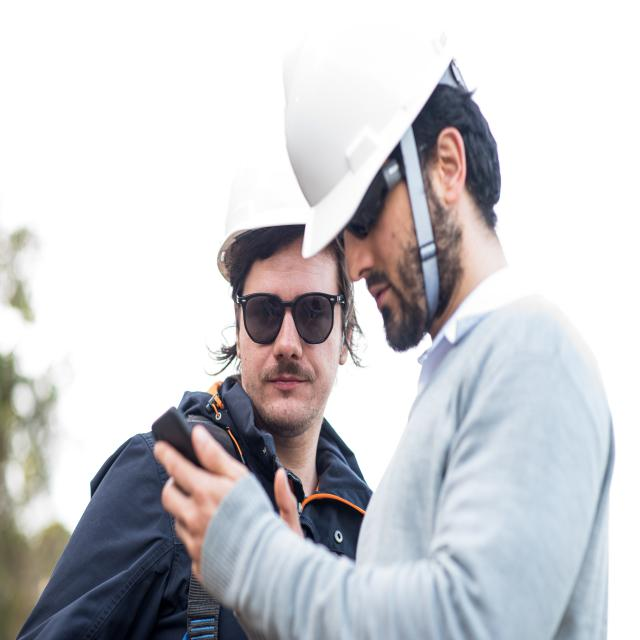capacete: (279, 3, 473, 262), (215, 134, 338, 285)
